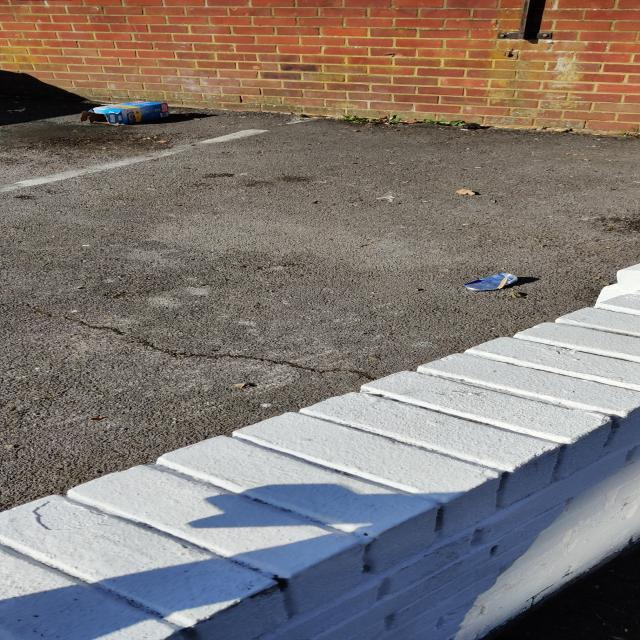litter: (94, 105, 158, 119)
